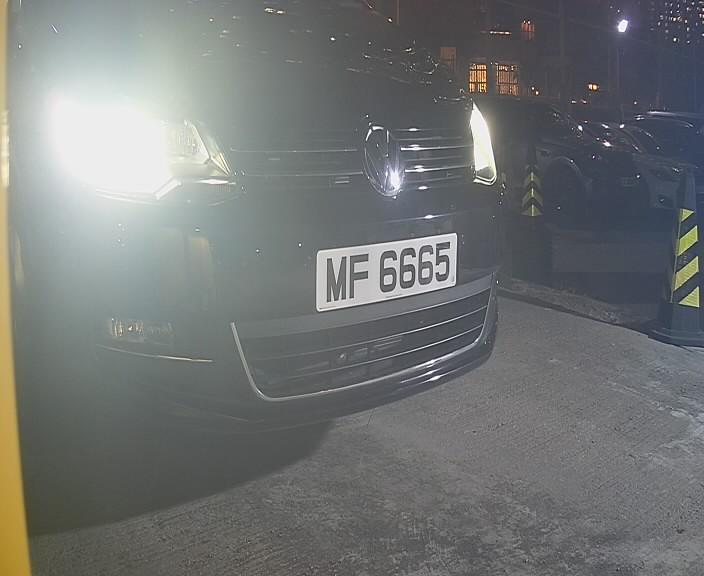License Plate: (299, 224, 463, 322)
